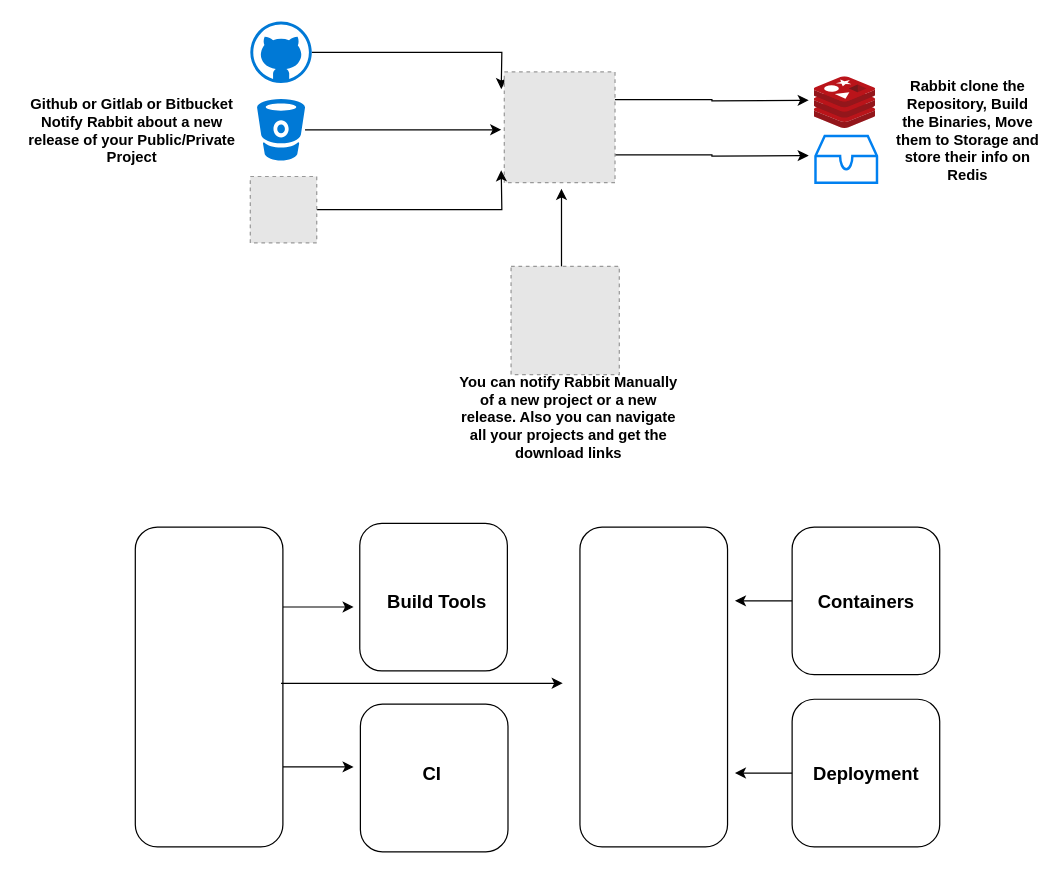
This 1061x873 diagram has some shape labels left out. Grey dashed boxes stand in for pictures. Each missing label, with the box of its shape:
Rabbit Binary Builder and Repository: (579, 526, 728, 847)
Version Control: (134, 526, 283, 847)
